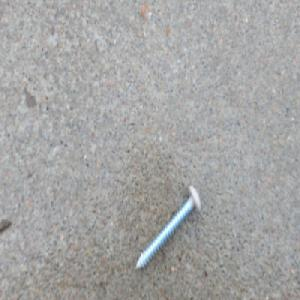Nail: (136, 181, 202, 270)
